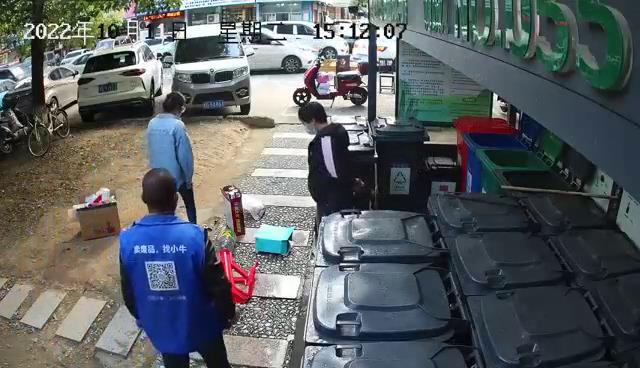person: (298, 101, 356, 217)
suliaozhipin: (213, 247, 260, 306), (206, 219, 238, 253)
worker: (117, 167, 234, 368), (144, 91, 198, 226)
zhizhipin: (68, 187, 122, 241), (218, 183, 247, 237), (255, 223, 295, 257)
